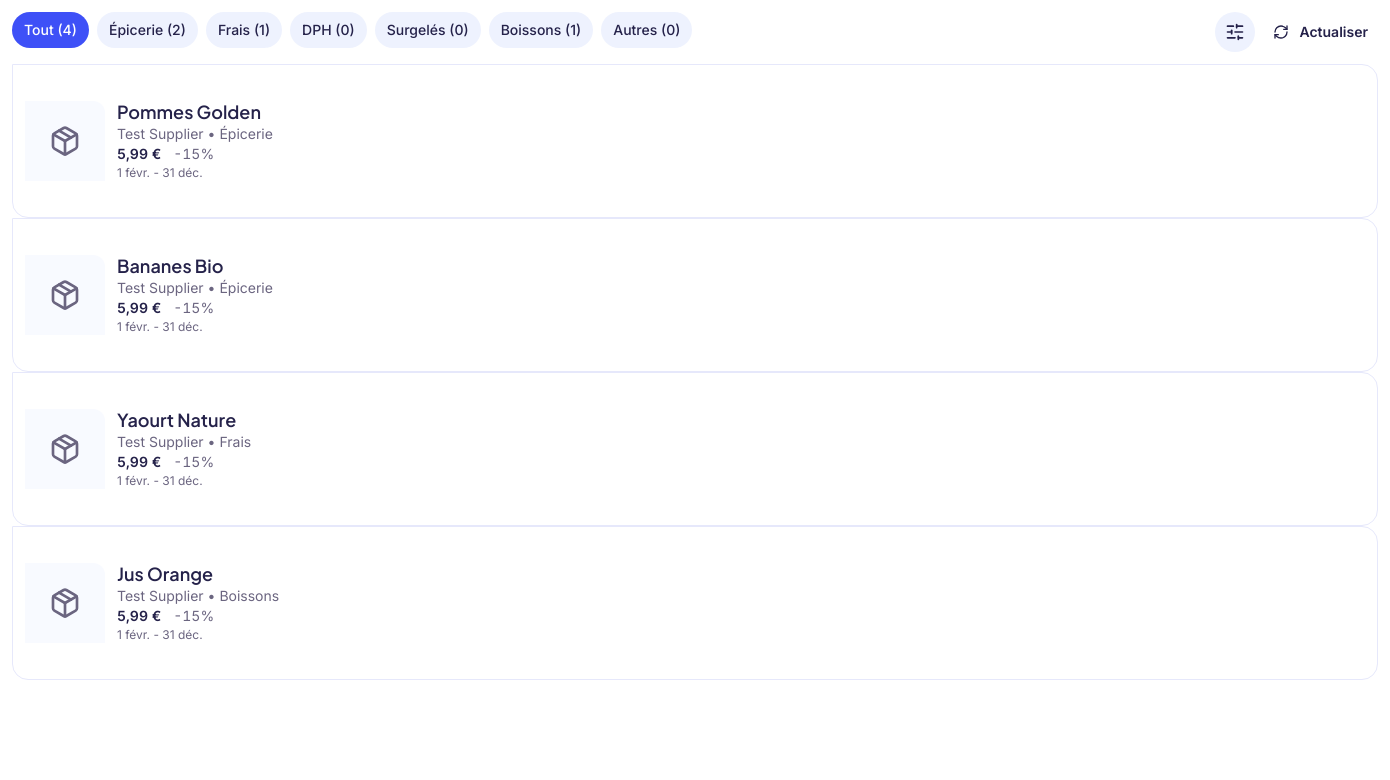
StoreOfferList › shows all offers when "Tout" chip is clicked after filtering
Click the radio button "Frais (1)" at {"x": 244, "y": 30}, box [206,12,282,48]
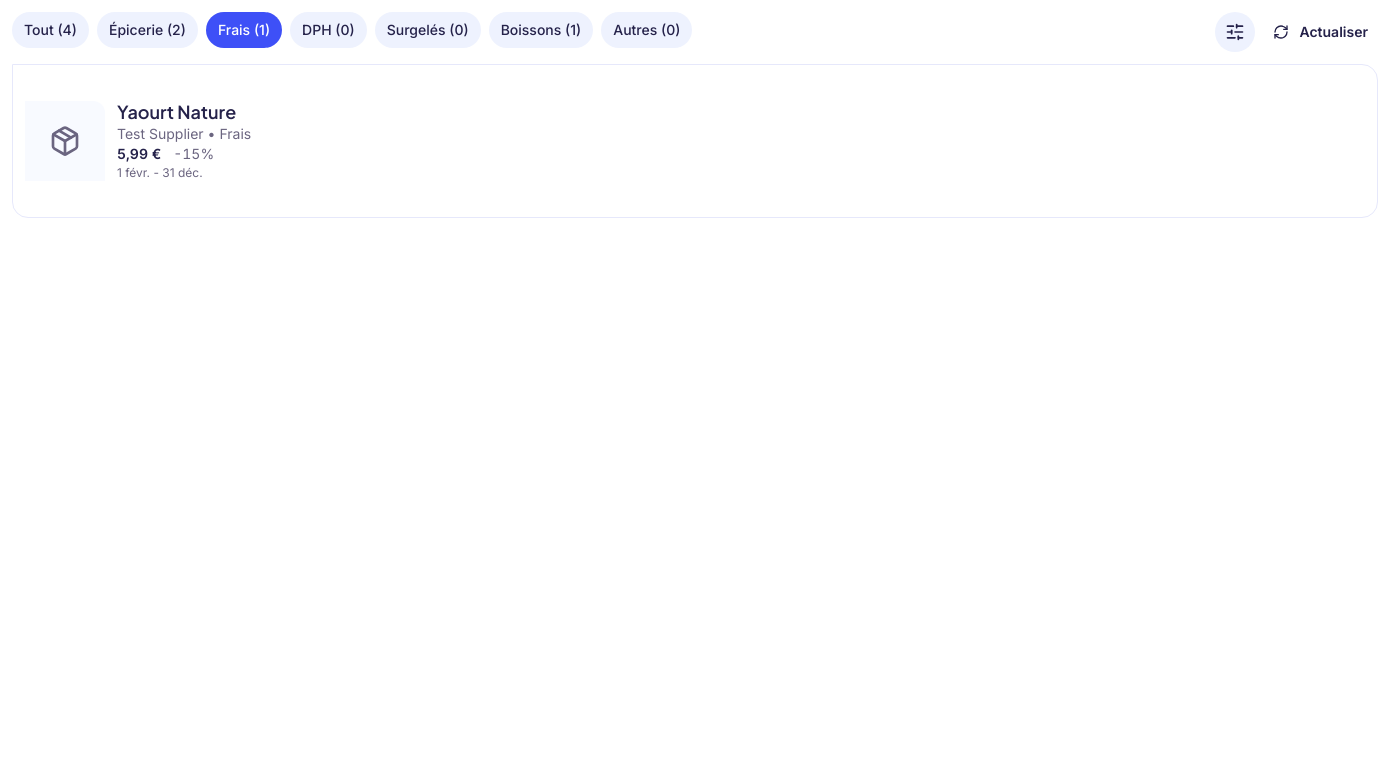
Check: the link "Pommes Golden" is gone
Click the radio button "Tout (4)" at {"x": 50, "y": 30}, box [12,12,89,48]
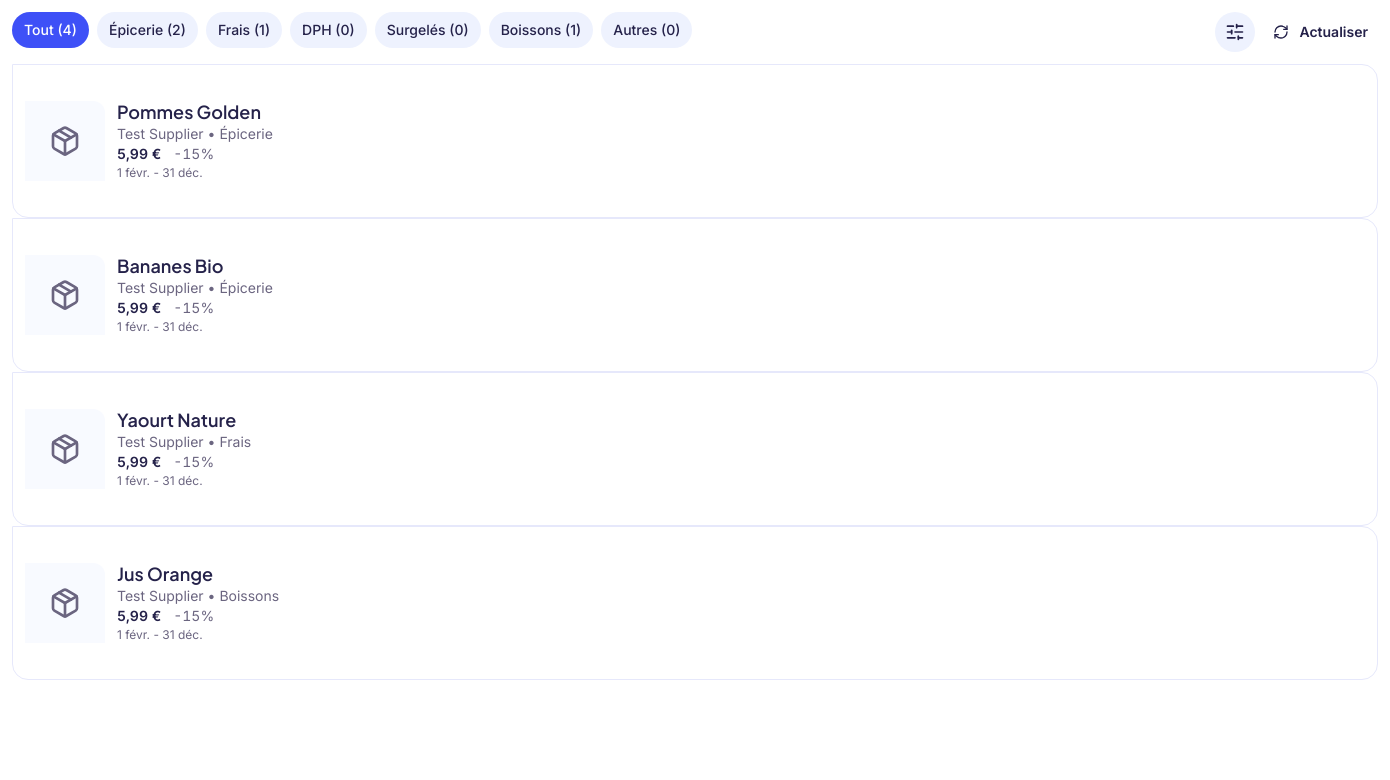
Check: the heading "Yaourt Nature" is shown, box [117,408,236,431]
Check: the heading "Pommes Golden" is shown, box [117,100,261,123]
